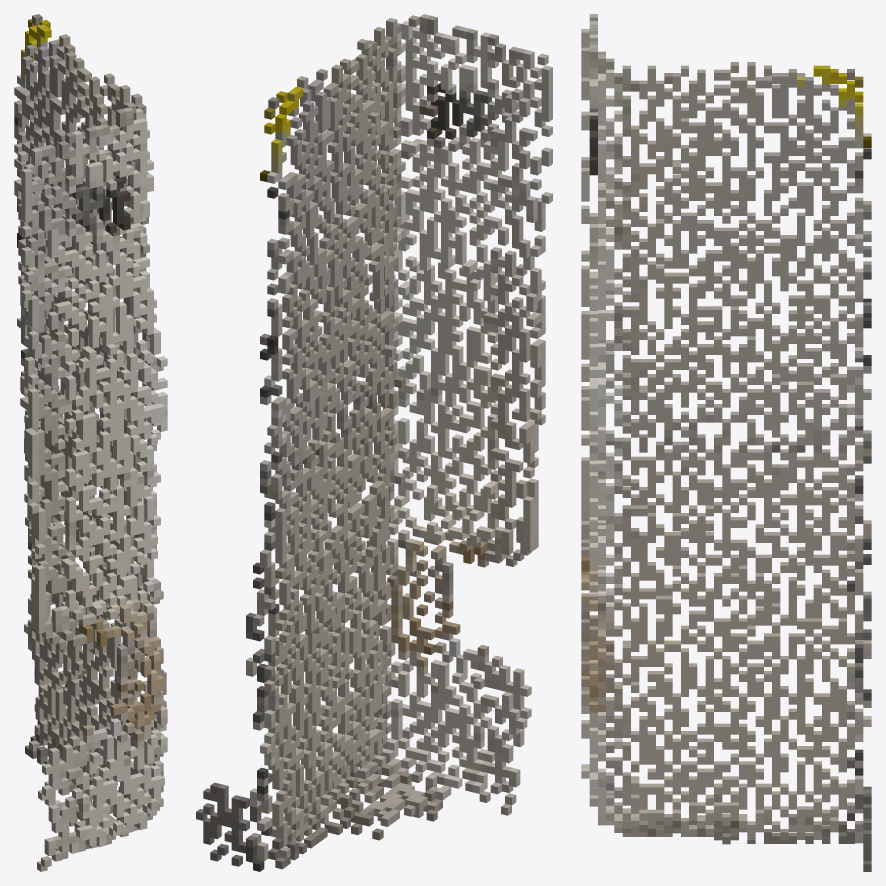
File: cabinet-1.gltf
3 renders of one model, left to right at view 1: azimuth 30°, elevation 25°; view 2: azimuth 150°, elevation 25°; view 3: azimuth 270°, elevation 25°, orthographic. The views are drawn at different scales.
Size of the model in its own units: 0.7108 by 2.46 by 0.8292.
